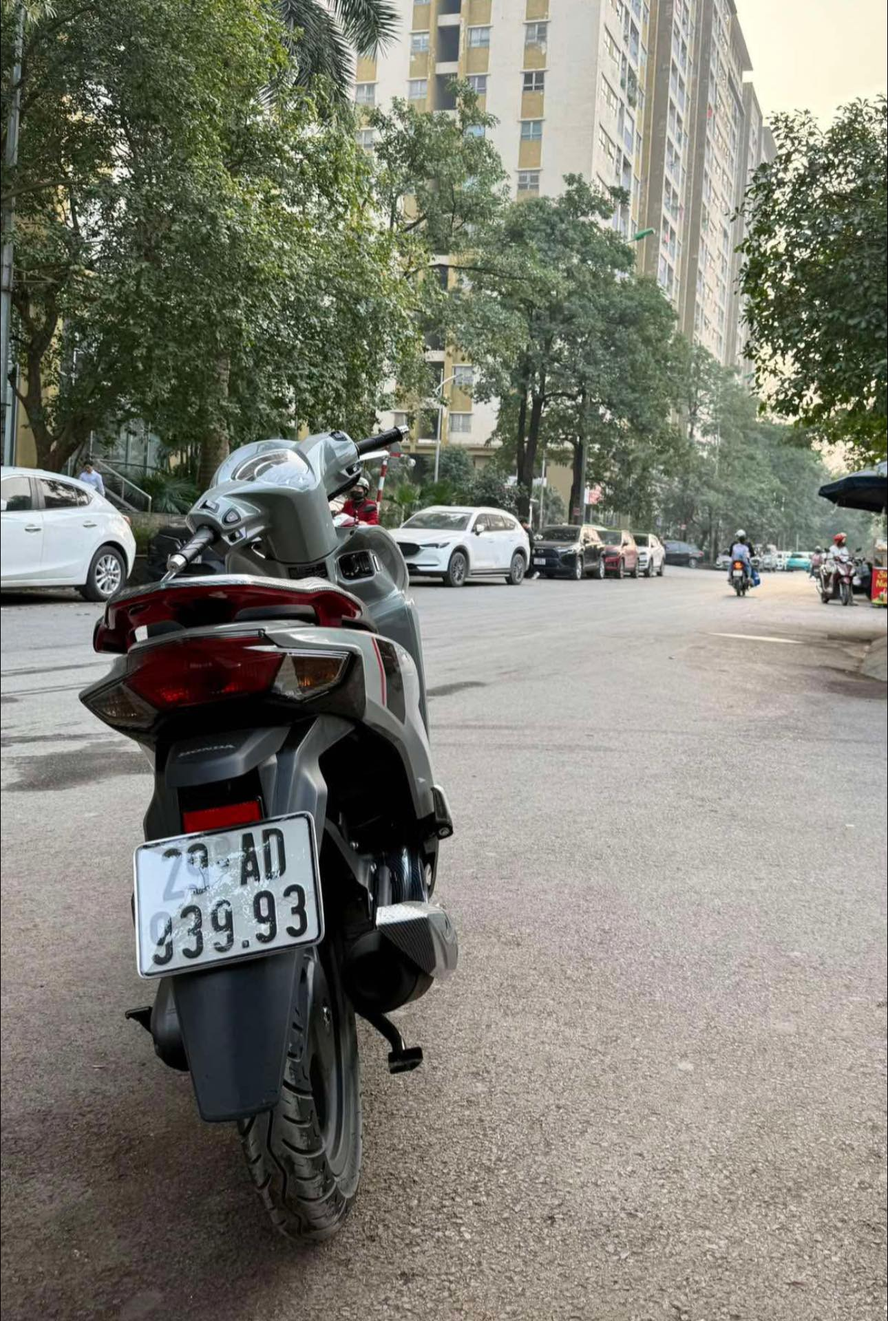bien_so: (119, 803, 340, 985)
